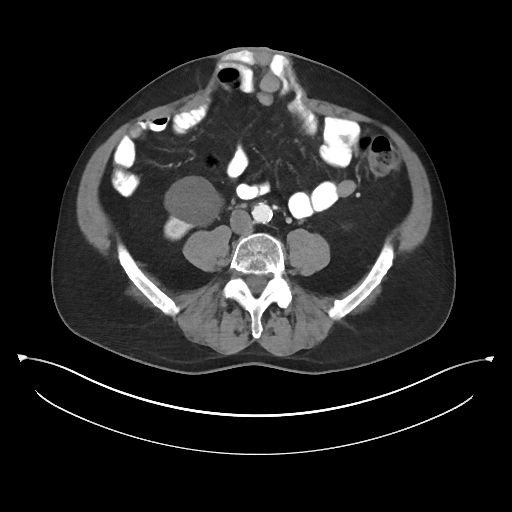Lesion: (163, 175, 223, 228)
